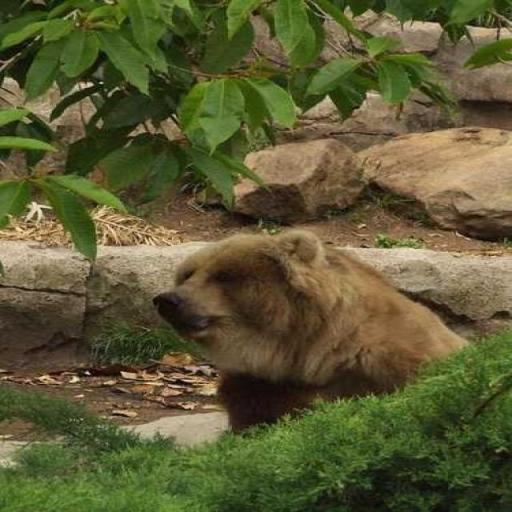Bear: (151, 227, 471, 435)
